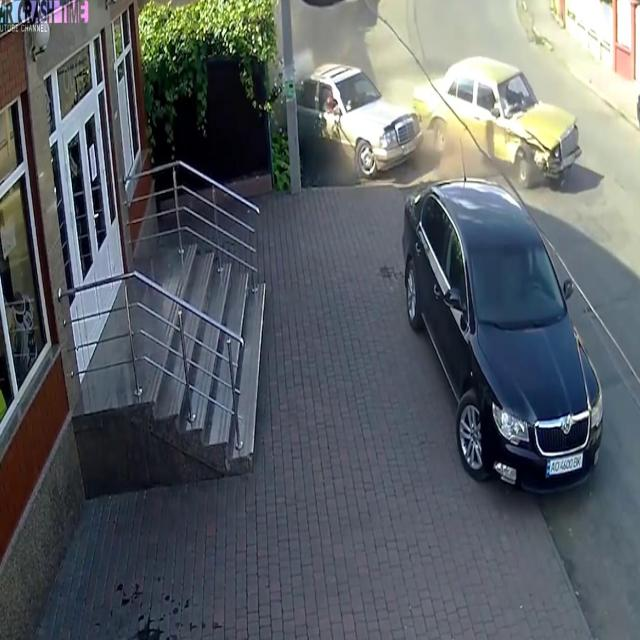accident: (295, 44, 585, 188)
